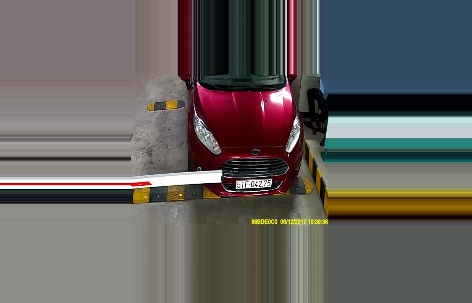plate: (232, 176, 273, 187)
